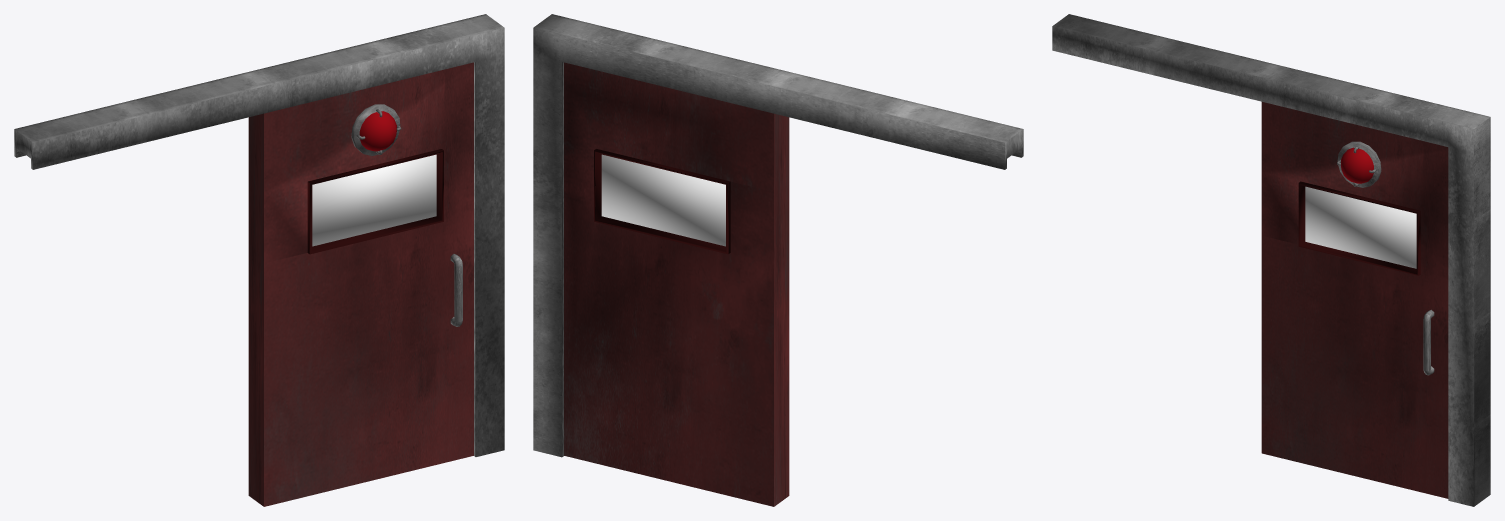
File: Dark_Door.fbx
The picture shows the model from 3 angles, left to right: view 1: azimuth 30°, elevation 25°; view 2: azimuth 150°, elevation 25°; view 3: azimuth 330°, elevation 25°; orthographic projection. The views are drawn at different scales.
Parts seen in each view (by area): view 1: Dark_Door, Dark_DoorFrame; view 2: Dark_Door, Dark_DoorFrame; view 3: Dark_Door, Dark_DoorFrame.
Boxes of the visible parts, <box> form: Dark_Door: <box>248,62,473,506</box>; Dark_DoorFrame: <box>14,14,504,456</box>; Dark_Door: <box>564,62,789,506</box>; Dark_DoorFrame: <box>533,14,1023,457</box>; Dark_Door: <box>1261,102,1448,498</box>; Dark_DoorFrame: <box>1052,14,1490,506</box>.
Size of the model in its own units: 266 by 227 by 28.43.
Materials: 8 (4 with a texture image).
